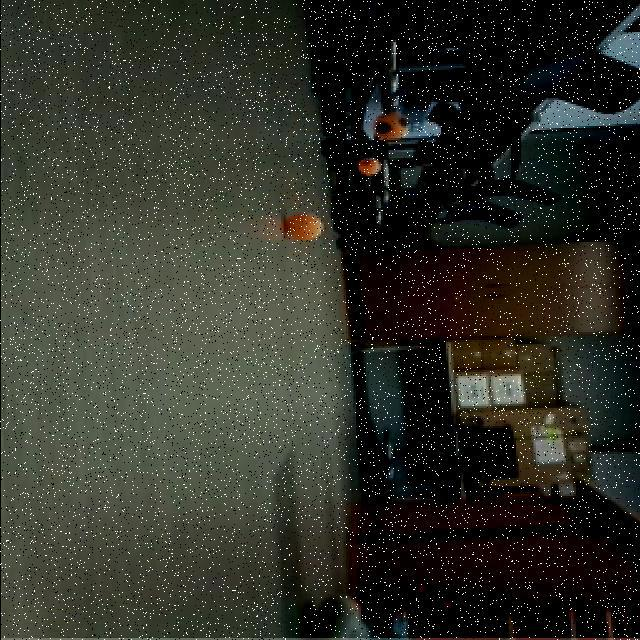ping-pong-ball: (274, 210, 330, 247), (366, 110, 416, 142), (354, 158, 386, 180)
